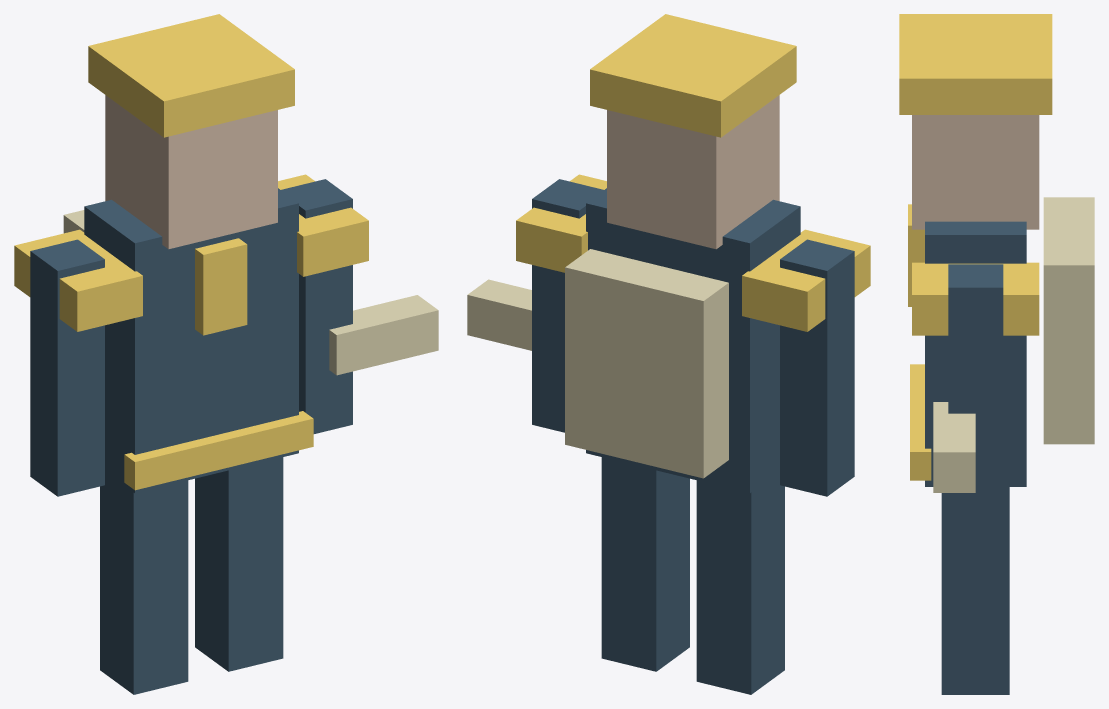
The model's file is 07_astra_riftwalker_watcher_from_loading.glb.
3 views of the same model, side by side, from view 1: azimuth 30°, elevation 25°; view 2: azimuth 150°, elevation 25°; view 3: azimuth 270°, elevation 25° (orthographic).
Parts seen in each view (by area): view 1: Astra Riftwalker, Watcher from Loading; view 2: Astra Riftwalker, Watcher from Loading; view 3: Astra Riftwalker, Watcher from Loading.
Boxes of the visible parts, x1,y1,x2,y2 form: Astra Riftwalker, Watcher from Loading: (14,14,438,694); Astra Riftwalker, Watcher from Loading: (467,14,870,694); Astra Riftwalker, Watcher from Loading: (899,14,1094,694).
Bounding box in the file's own units: 1.05 × 1.63 × 0.4704.
